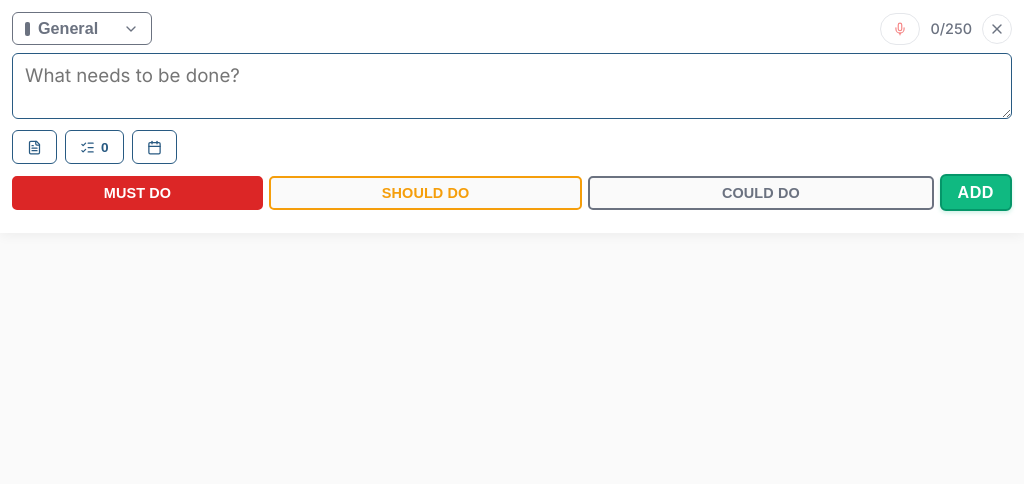
Test: Button Display Mode & Decluttering › AddTask renders Repeat icon button on same scheduling row and toggles recurrence
Open Schedule section
Step 1. Click the button named "schedule" → click(154, 147), box [132,130,177,164]
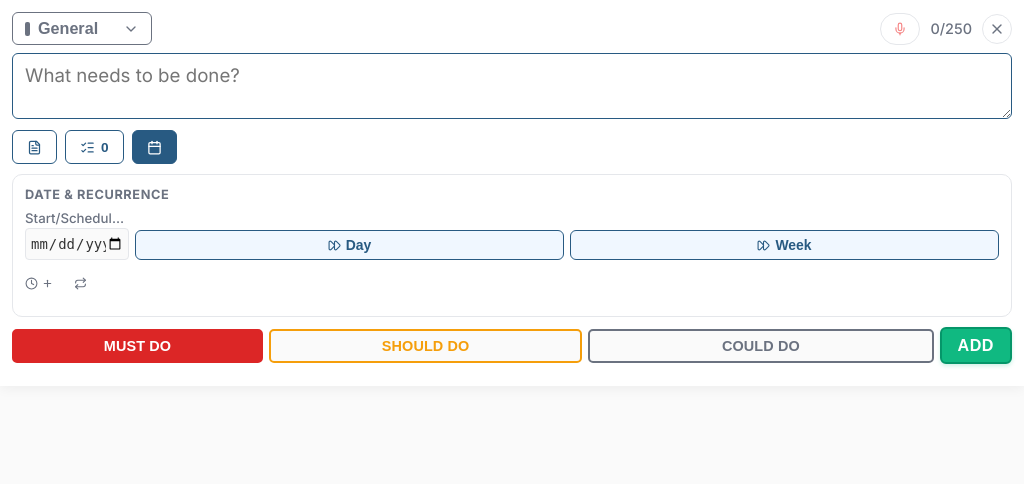
Check: the text "Every" is not shown
Check: the button named "add time" is shown, box [25,274,53,292]
Check: the checkbox named "repeat this task" is shown
Click Repeat icon button to enable recurrence
Step 2. Click the checkbox named "repeat this task" → click(80, 283), box [65,270,96,296]
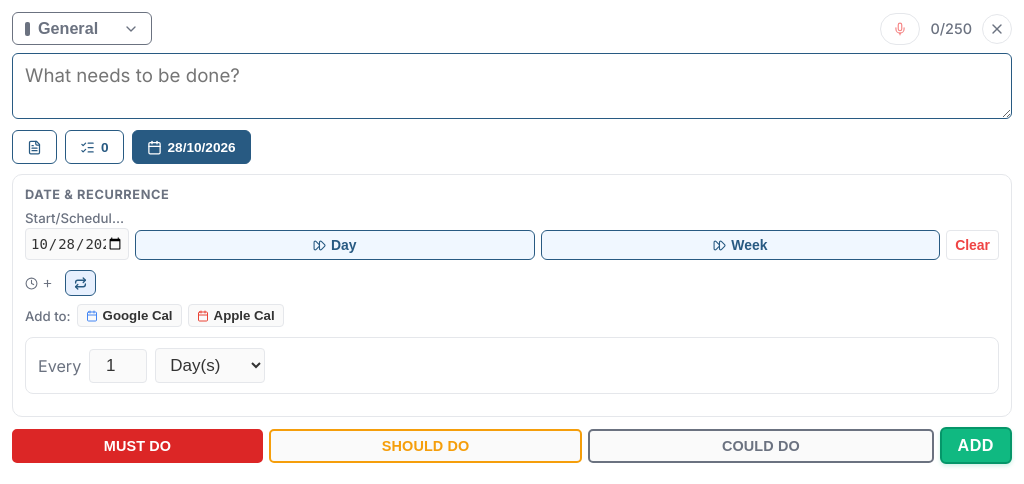
Check: the text "Every" is shown, box [38,356,81,376]
Click again to turn off
Step 3. Click the checkbox named "repeat this task" → click(80, 283), box [65,270,96,296]
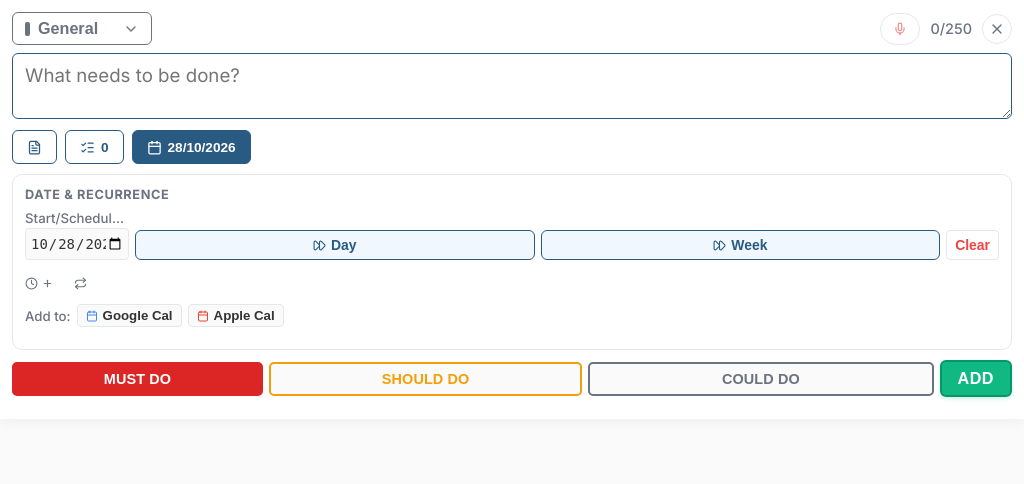
Check: the text "Every" is gone
